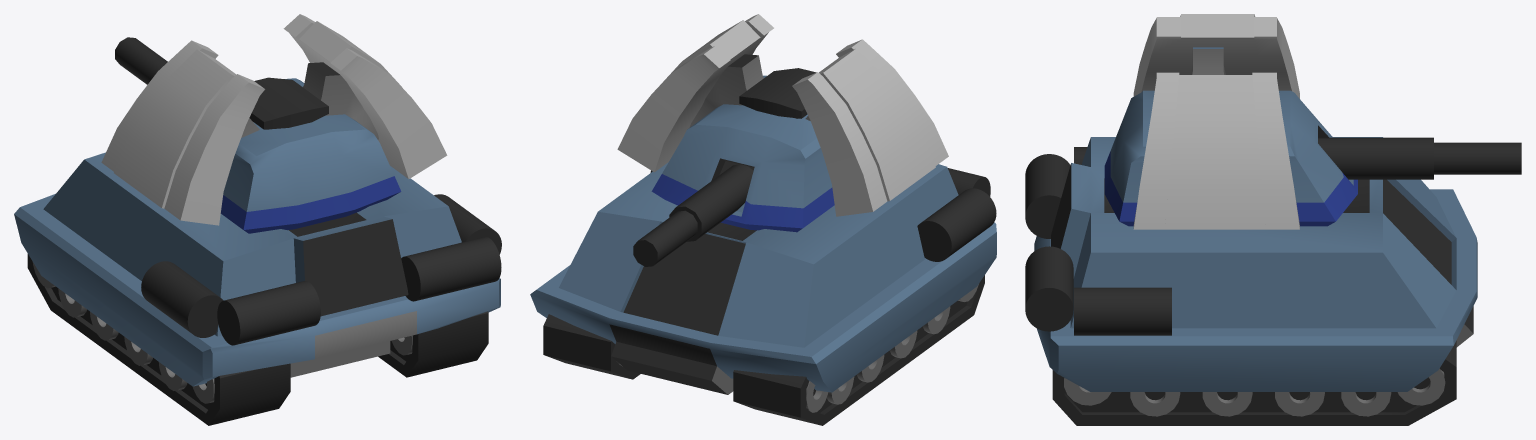
Rendered from tower_6.fbx.
The picture shows the model from 3 angles, left to right: view 1: azimuth 30°, elevation 25°; view 2: azimuth 150°, elevation 25°; view 3: azimuth 270°, elevation 25°; orthographic projection. The views are drawn at different scales.
Parts seen in each view (by area): view 1: 空白_2; view 2: 空白_2; view 3: 空白_2.
Part boxes in pixels (left/top/right/bottom): 空白_2: left=14, top=14, right=501, bottom=425; 空白_2: left=530, top=14, right=996, bottom=425; 空白_2: left=1025, top=14, right=1521, bottom=425.
Size of the model in its own units: 64.79 by 58.51 by 84.43.
